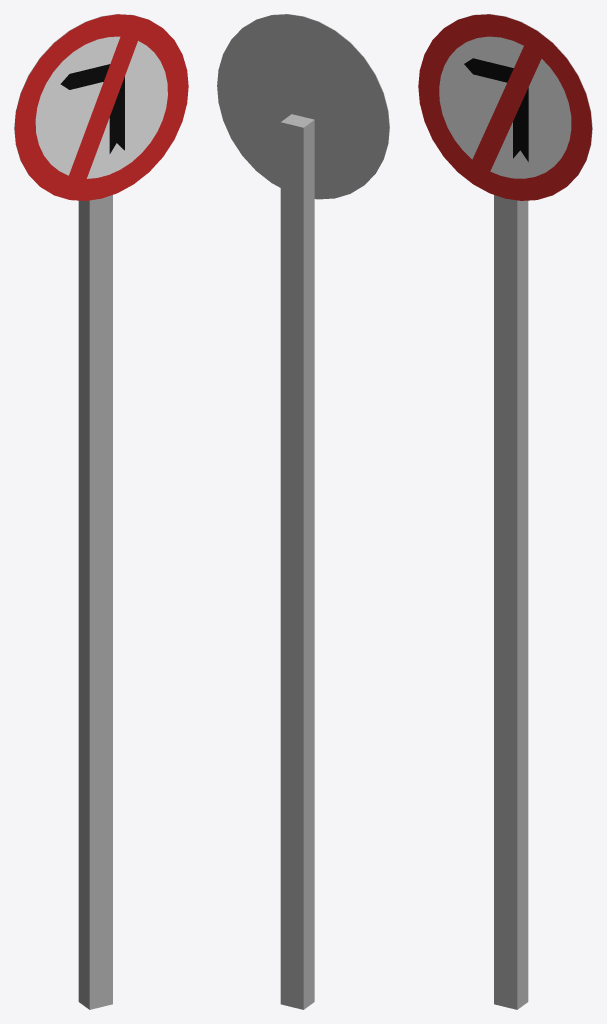
Rendered from noleft.DAE.
3 renders of one model, left to right at view 1: azimuth 30°, elevation 25°; view 2: azimuth 150°, elevation 25°; view 3: azimuth 330°, elevation 25°, orthographic.
Parts seen in each view (by area): view 1: solaFBXASC032dFBXASC195FBXASC182nFBXASC195FBXASC188FBXASC197; view 2: solaFBXASC032dFBXASC195FBXASC182nFBXASC195FBXASC188FBXASC197; view 3: solaFBXASC032dFBXASC195FBXASC182nFBXASC195FBXASC188FBXASC197.
Boxes of the visible parts, x1,y1,x2,y2 form: solaFBXASC032dFBXASC195FBXASC182nFBXASC195FBXASC188FBXASC197: (14, 14, 188, 1009); solaFBXASC032dFBXASC195FBXASC182nFBXASC195FBXASC188FBXASC197: (217, 14, 389, 1009); solaFBXASC032dFBXASC195FBXASC182nFBXASC195FBXASC188FBXASC197: (418, 14, 592, 1009).
Bounding box in the file's own units: 17.72 × 96.46 × 2.05.
